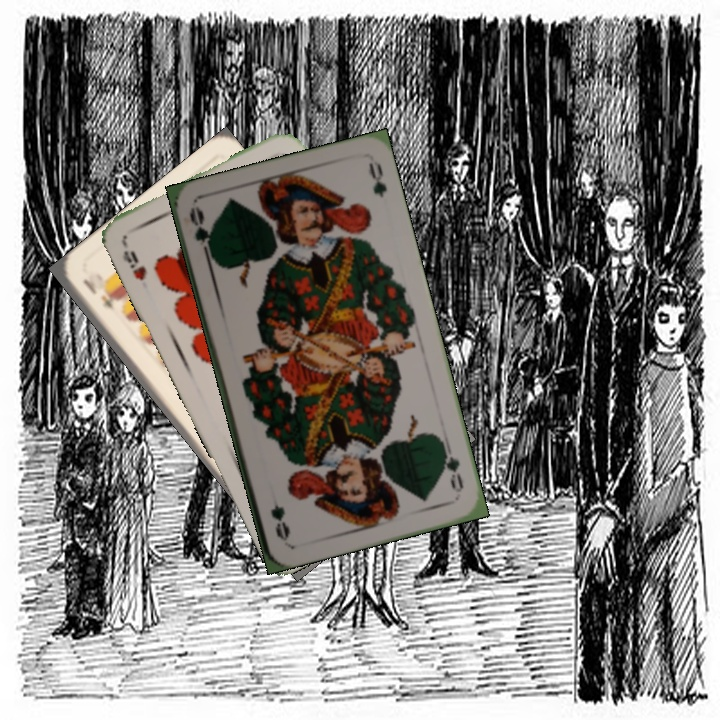E10: (78, 275, 118, 314)
GO: (185, 204, 217, 263), (438, 438, 466, 495)
H9: (118, 237, 149, 284)
